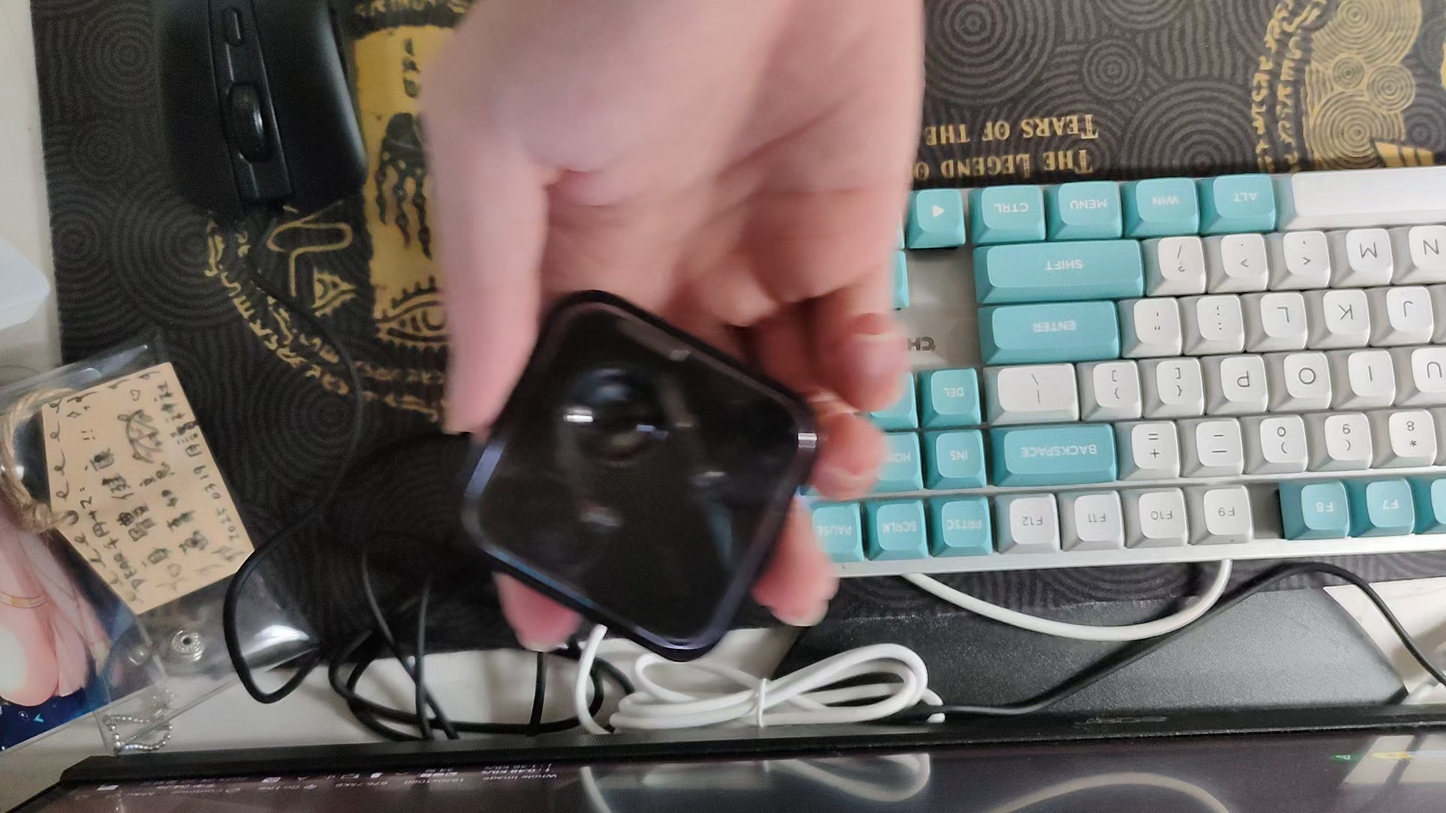Wireless_earphone: (445, 288, 821, 664)
